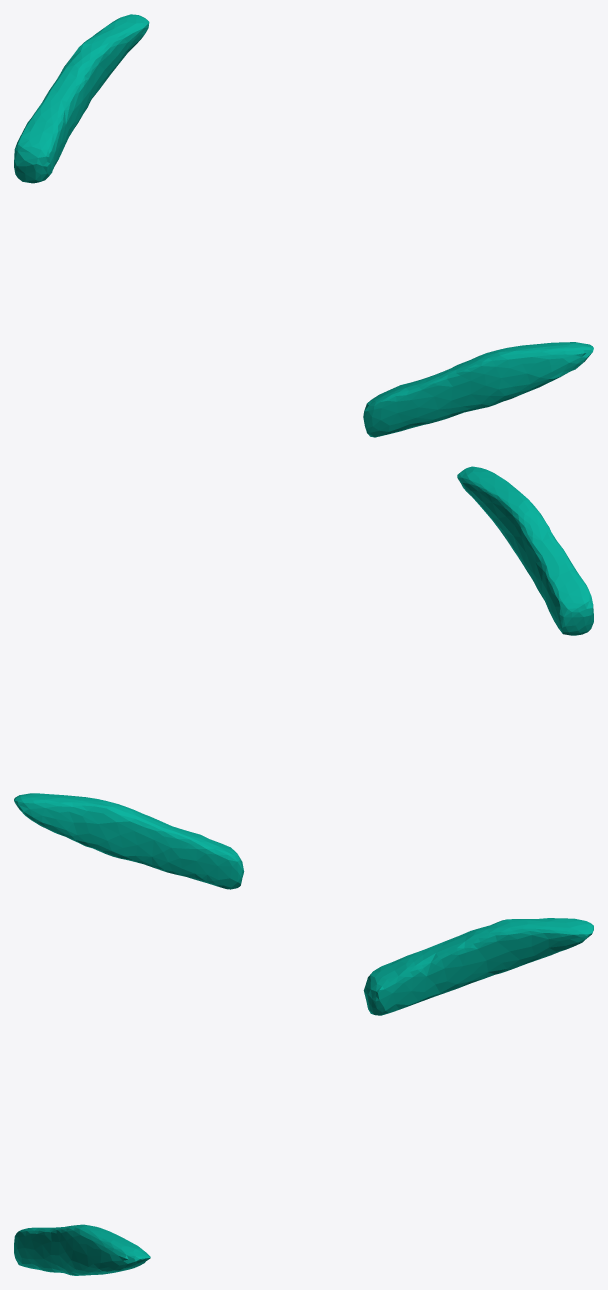
3 views of the same model, one above another, from view 1: azimuth 30°, elevation 25°; view 2: azimuth 150°, elevation 25°; view 3: azimuth 330°, elevation 25° (orthographic).
Visible parts, largest first — view 1: 187.obj; view 2: 187.obj; view 3: 187.obj.
Part boxes in pixels (bbox=[...]): 187.obj: bbox=[14, 14, 593, 437]; 187.obj: bbox=[14, 466, 593, 889]; 187.obj: bbox=[14, 918, 593, 1275].
Bounding box in the file's own units: 1949 × 931 × 8573.
